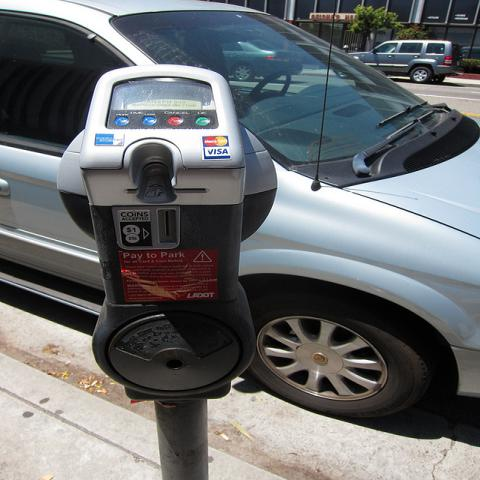car: (2, 0, 477, 432), (350, 40, 466, 84)
